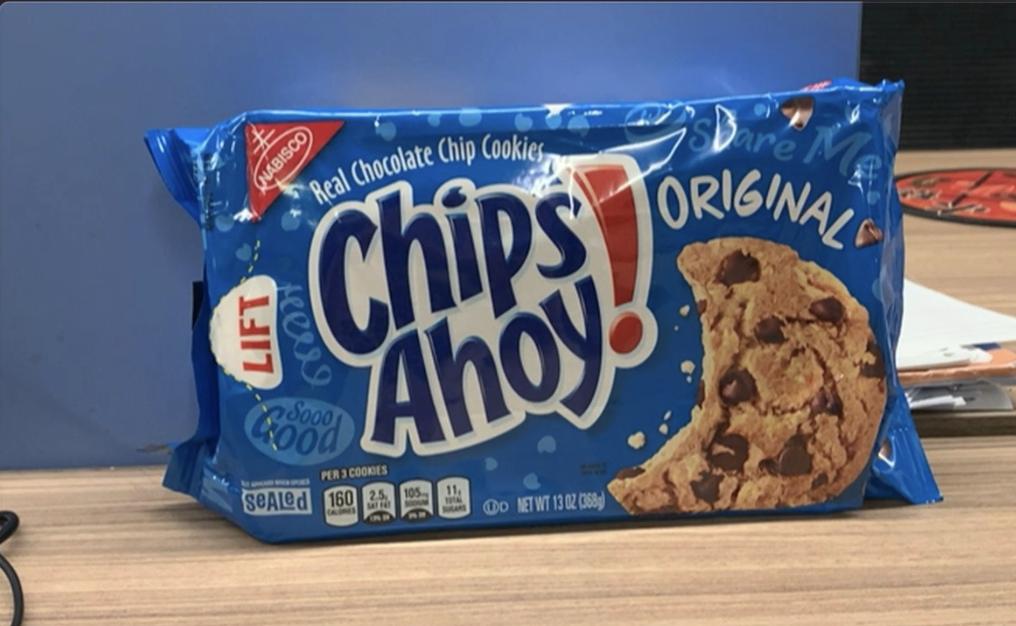cookies_300g-399g: (222, 141, 890, 498)
